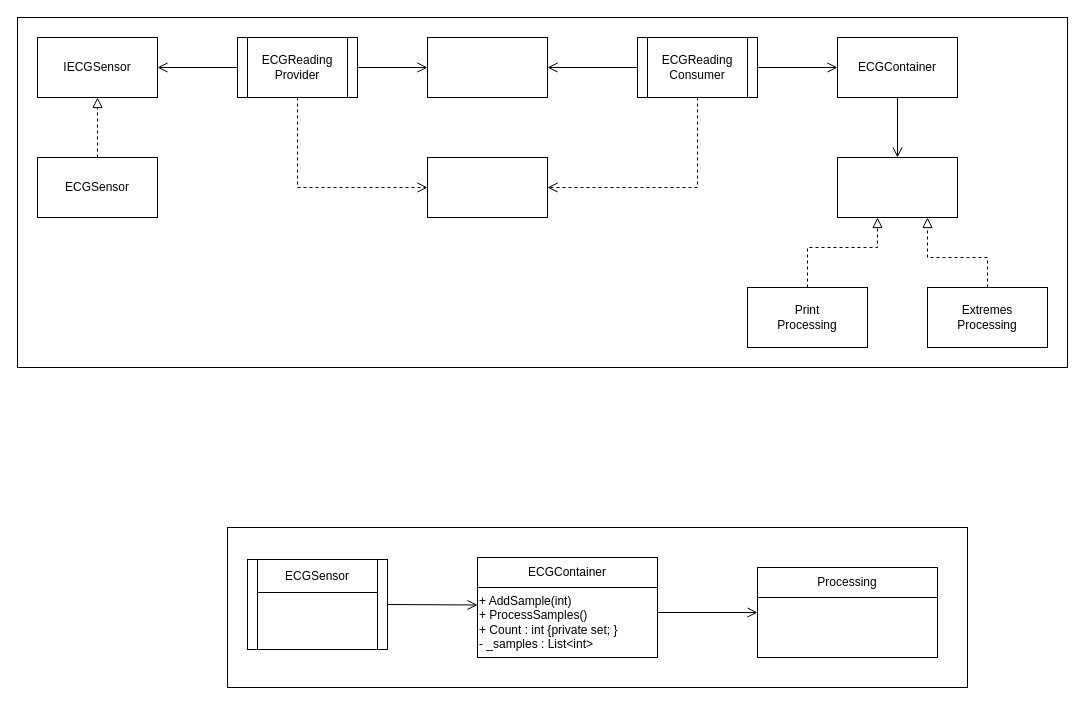
The diagram is 1085 pixels wide and 705 high, and some of its shapes have lost their labels. The centre of each missing label's shape, as x and y in pixels:
+ GenerateSample(): point 317,621
+ Process(List<int> samples): point 847,627
BlockingCollection <ECGReading>: point 487,67
ECGReading: point 487,187
IProcessing: point 897,187
